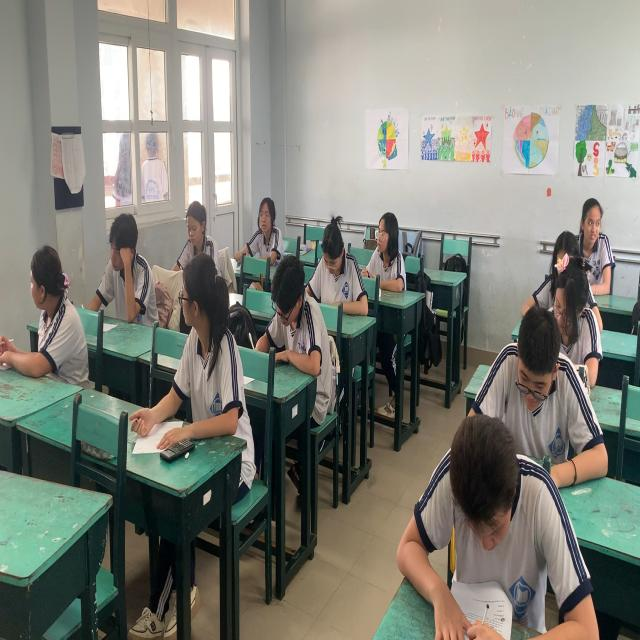cheating: (172, 245, 243, 432)
not_cheating: (408, 418, 578, 640), (10, 224, 88, 386), (500, 304, 568, 456), (548, 248, 601, 400), (265, 245, 323, 383), (92, 197, 154, 303), (311, 210, 358, 321), (568, 190, 614, 296), (237, 182, 292, 268), (362, 203, 409, 290), (177, 196, 216, 272)
